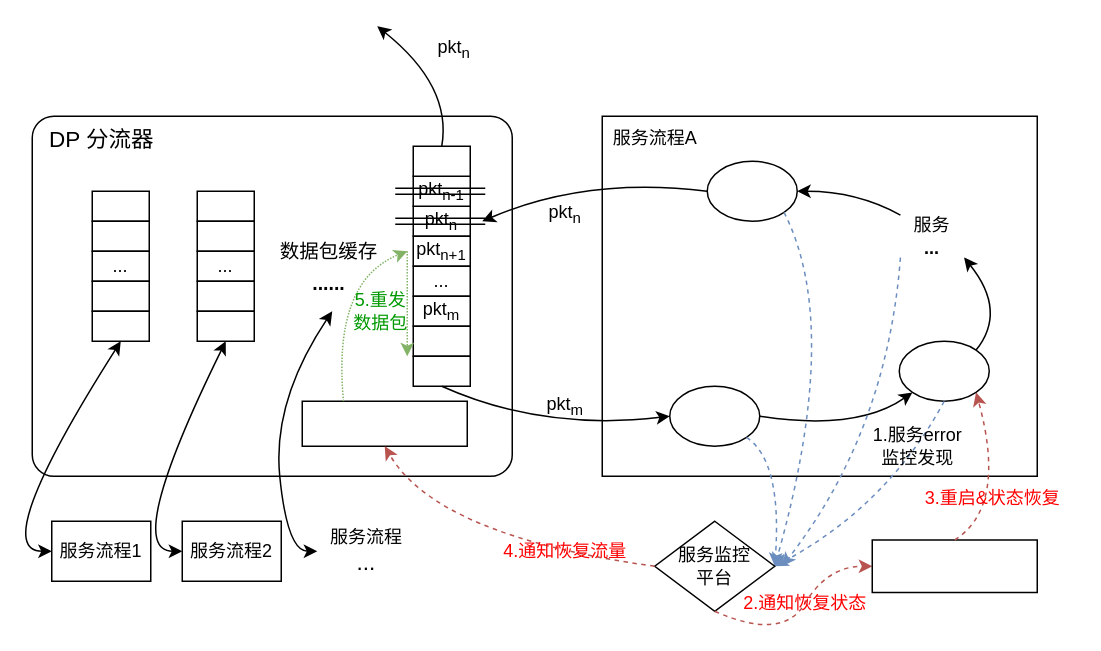
Some shapes in this 1101 by 651 pixel diagram are drawn without their labels. Here are the shapes that lost their labels. From the top down, the box of each, then its label:
(706, 160, 797, 221): 服务t
(898, 340, 989, 401): 服务2 error
(301, 400, 467, 446): 流量恢复系统
(668, 385, 760, 446): 服务1
(871, 538, 1037, 592): 可靠性状态存储服务器
